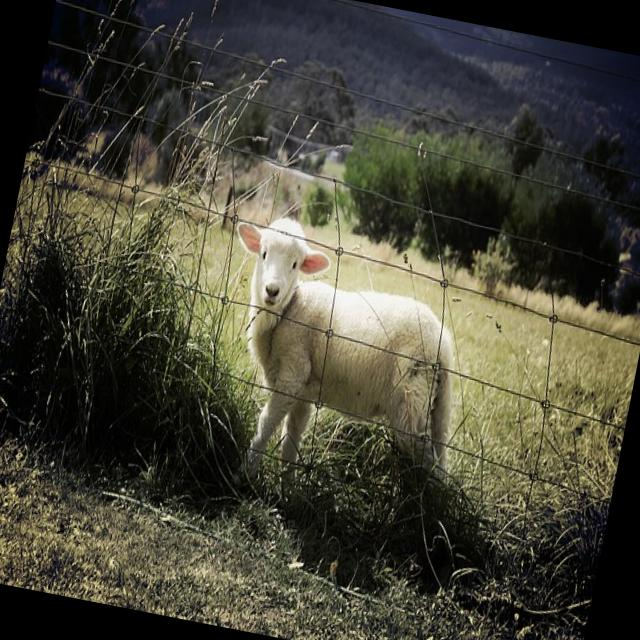sheep: (194, 207, 488, 521)
